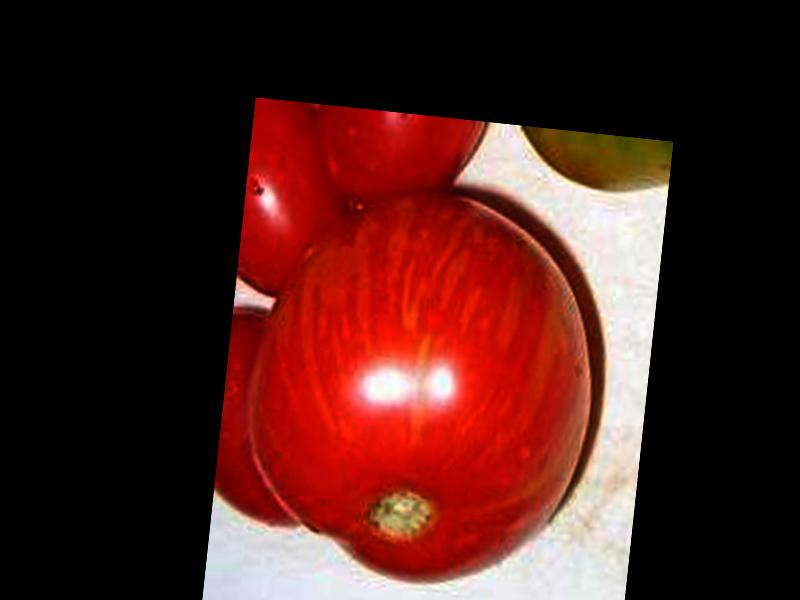Tomato: (228, 172, 612, 600)
